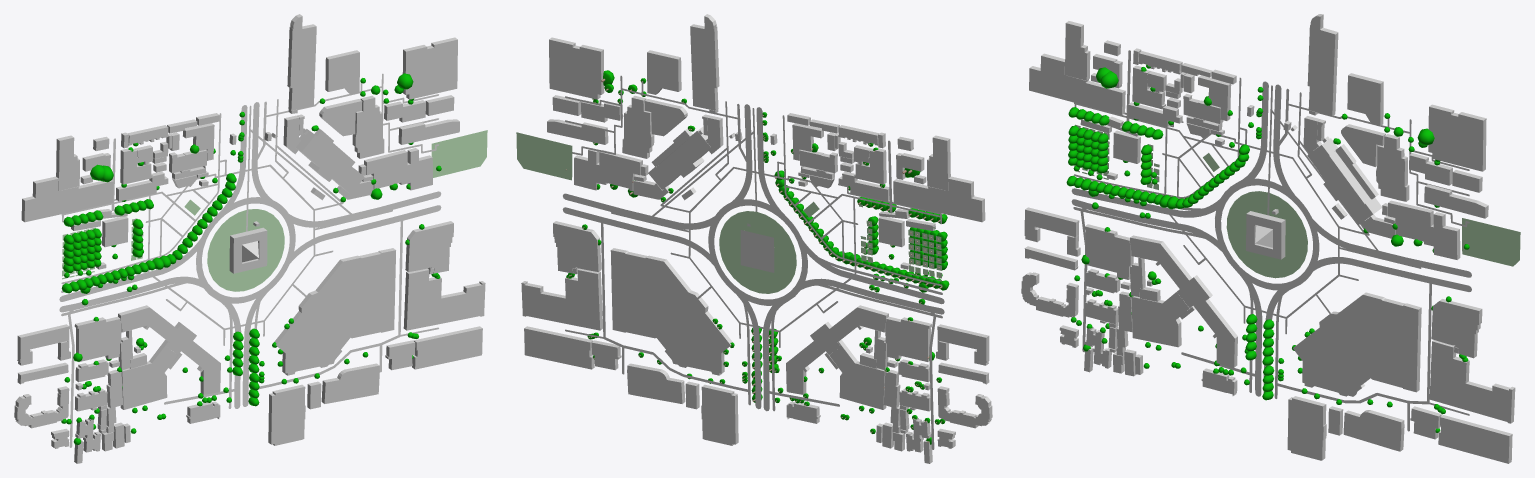
3 views of the same model, side by side, from view 1: azimuth 30°, elevation 25°; view 2: azimuth 150°, elevation 25°; view 3: azimuth 330°, elevation 25° (orthographic). The views are drawn at different scales.
Visible parts, largest first — view 1: TPX_Buildings, TPX_RoadsOutlines, TPX_GreenAreas; view 2: TPX_Buildings, TPX_RoadsOutlines, TPX_GreenAreas; view 3: TPX_Buildings, TPX_RoadsOutlines, TPX_GreenAreas.
Part boxes in pixels (x1=…): TPX_Buildings: x1=14, y1=14, x2=485, y2=463; TPX_RoadsOutlines: x1=59, y1=73, x2=441, y2=447; TPX_GreenAreas: x1=62, y1=130, x2=487, y2=291; TPX_Buildings: x1=521, y1=14, x2=992, y2=463; TPX_RoadsOutlines: x1=562, y1=75, x2=944, y2=449; TPX_GreenAreas: x1=516, y1=132, x2=941, y2=293; TPX_Buildings: x1=1021, y1=14, x2=1515, y2=463; TPX_RoadsOutlines: x1=1071, y1=50, x2=1471, y2=431; TPX_GreenAreas: x1=1074, y1=124, x2=1520, y2=278.
Bounding box in the file's own units: 554 × 473 × 26.
